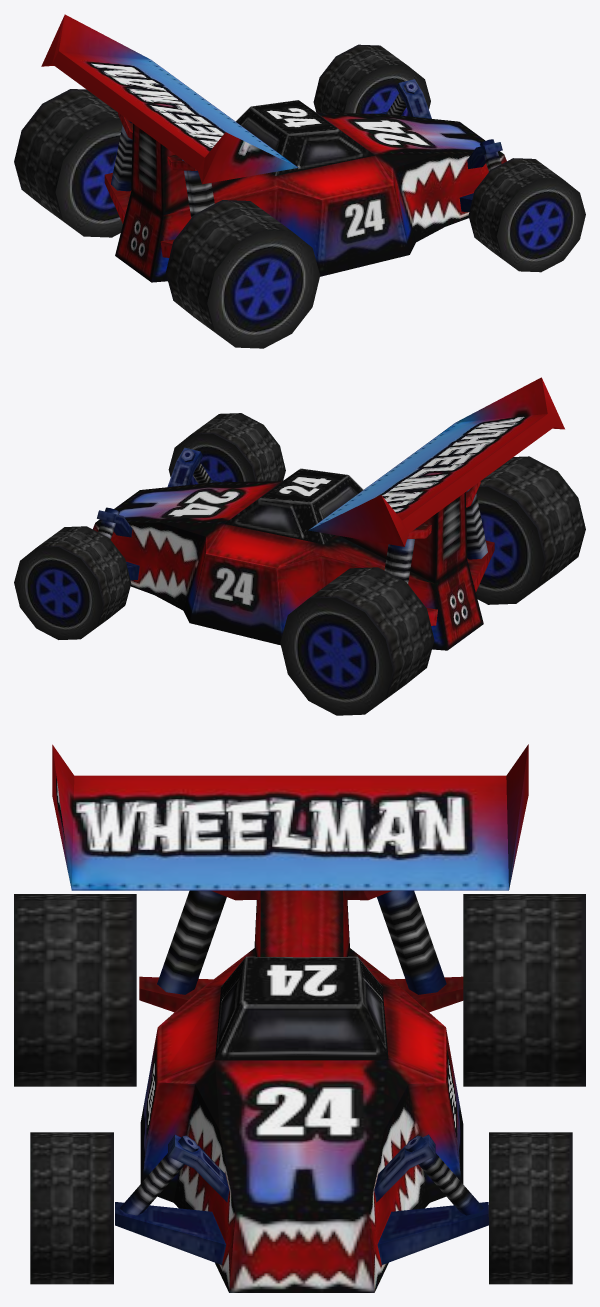
File: car10.fbx
3 views of the same model, one above another, from view 1: azimuth 30°, elevation 25°; view 2: azimuth 150°, elevation 25°; view 3: azimuth 270°, elevation 25° (orthographic). The views are drawn at different scales.
Parts seen in each view (by area): view 1: car10; view 2: car10; view 3: car10.
Boxes of the visible parts, x1,y1,x2,y2 form: car10: (14, 14, 585, 348); car10: (14, 377, 585, 715); car10: (14, 744, 585, 1292).
Bounding box in the file's own units: 198 × 104 × 171.
